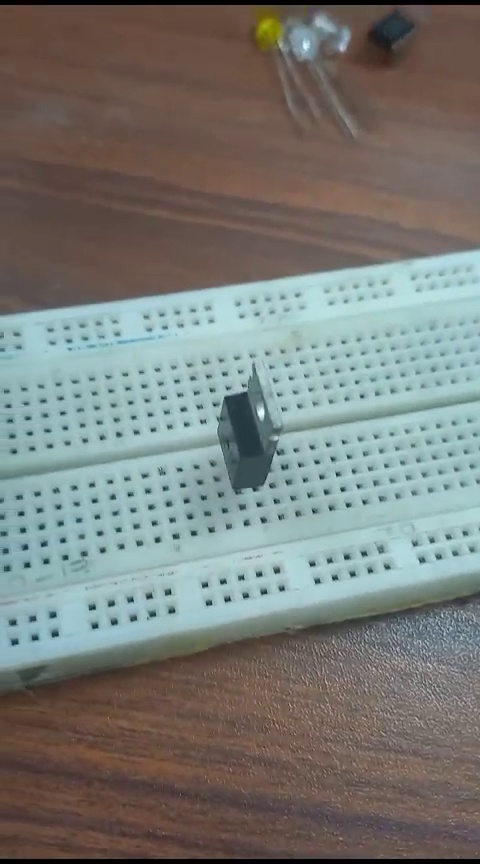voltage regulator: (206, 359, 290, 503)
